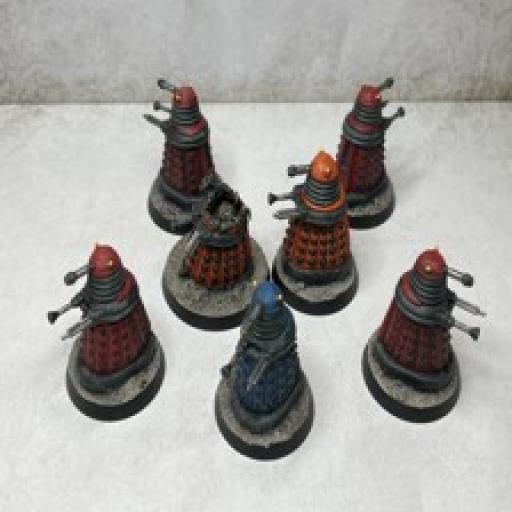dalek: (42, 242, 161, 392), (374, 247, 486, 394), (216, 278, 309, 429), (262, 146, 358, 288), (147, 70, 228, 205), (174, 170, 253, 288), (334, 76, 406, 202)
